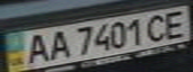0: (109, 19, 130, 49)
1: (124, 16, 148, 46)
4: (93, 20, 115, 52)
7: (69, 24, 97, 56)
A: (18, 30, 54, 65), (42, 28, 72, 61)
C: (142, 11, 172, 43)
E: (160, 7, 193, 40)
